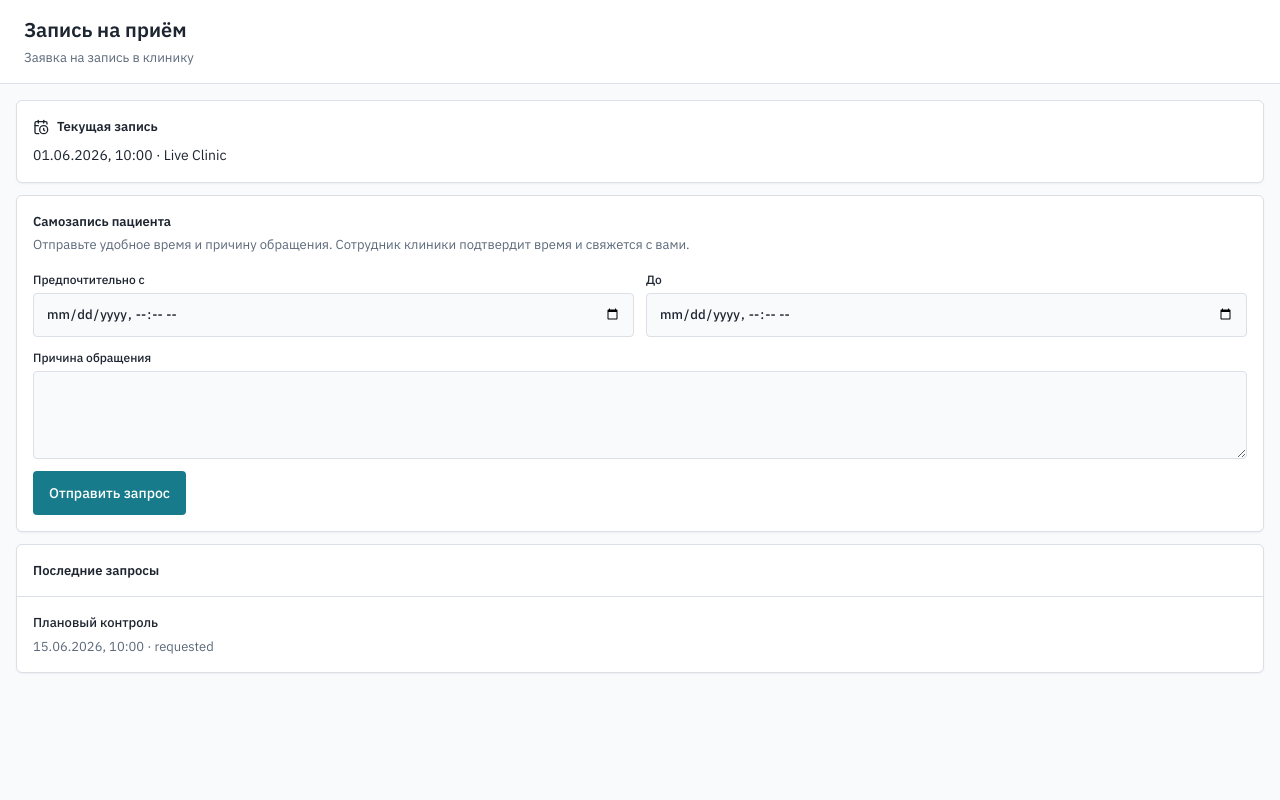
it: Patient portal · Stage 5N production › shows production booking state and creates a self-hosted booking request
Expected: the text "Самозапись пациента" is shown, [33, 212, 171, 230]
Expected: the text "Плановый контроль" is shown, [33, 614, 158, 631]
Type "2026-06-20T10:00" into the field named "Предпочтительное начало записи" at (334, 314), box [33, 292, 634, 336]
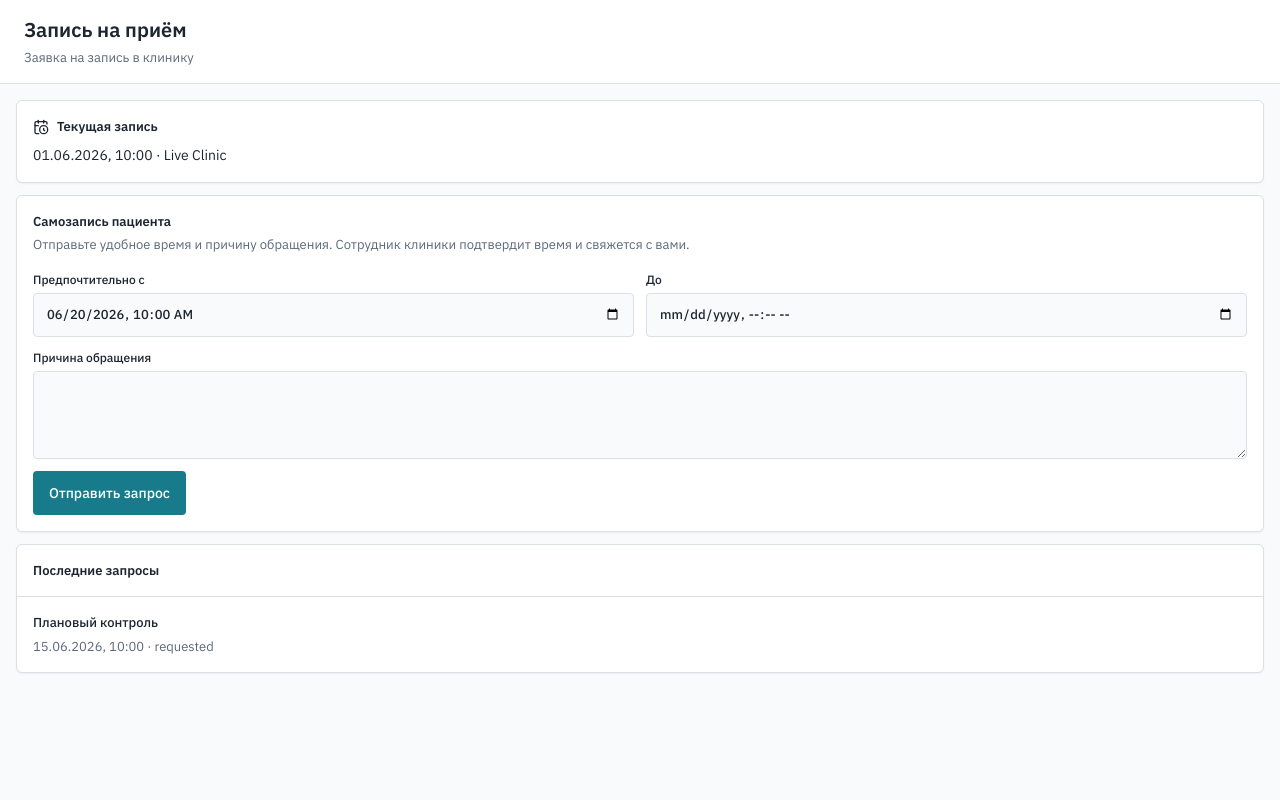
Type "Контроль после лечения" into the text box named "Причина запроса на запись" at (640, 414), box [33, 370, 1247, 458]
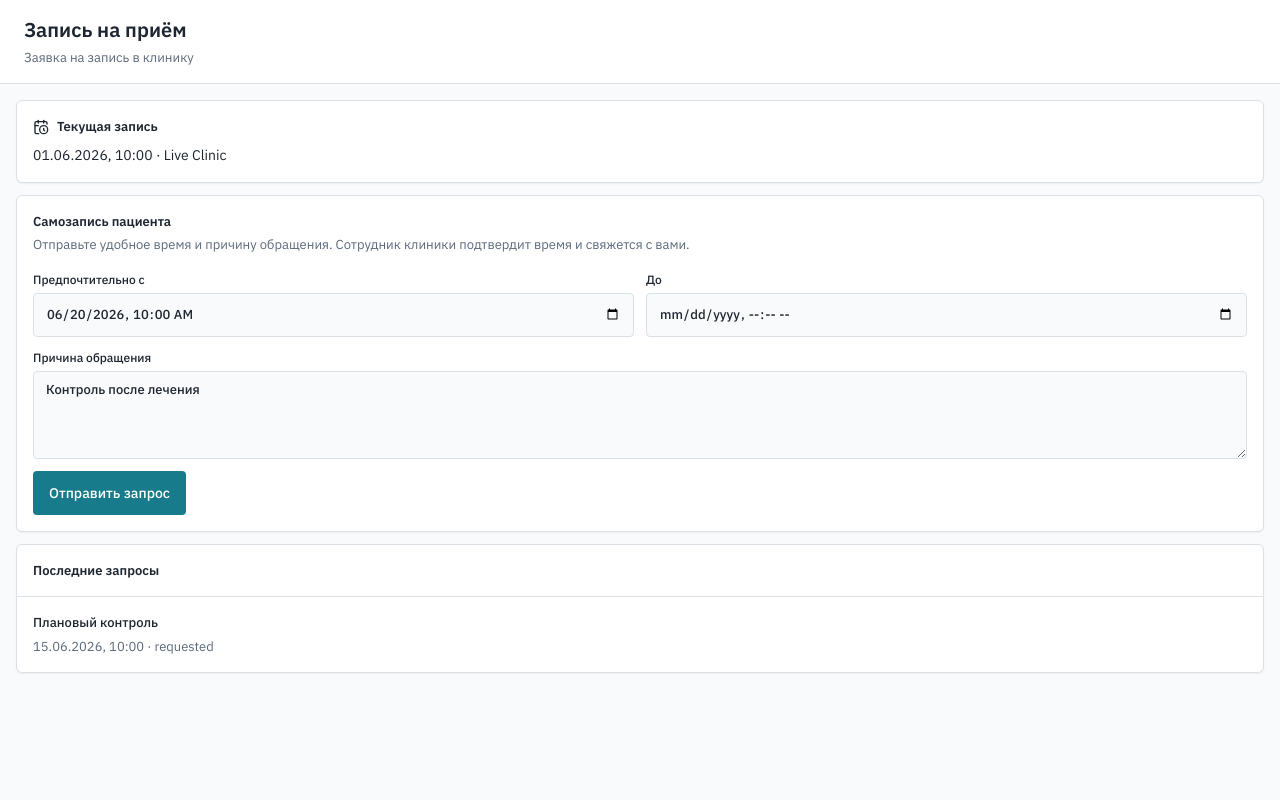
Click the button "Отправить запрос" at (110, 492), box [33, 470, 186, 514]
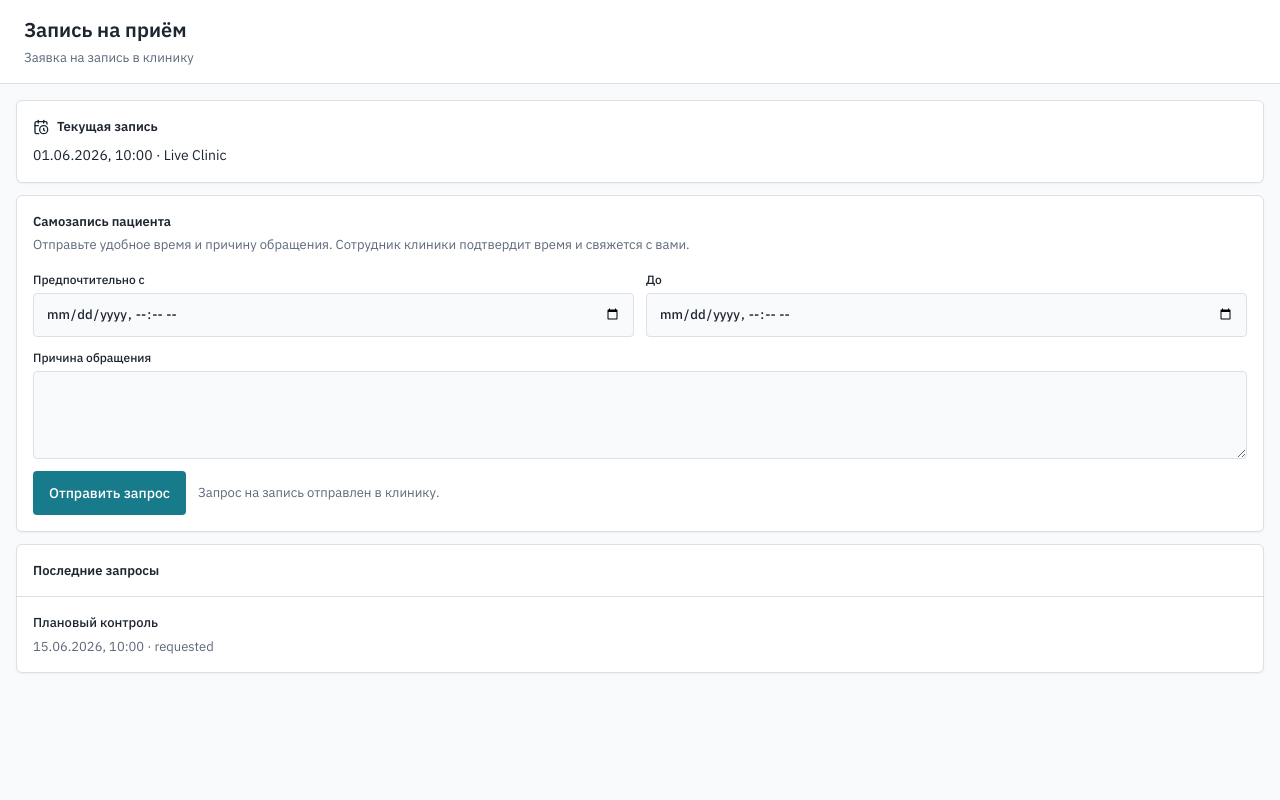
Result: the text "Запрос на запись отправлен в клинику." is shown at [198, 483, 440, 502]
